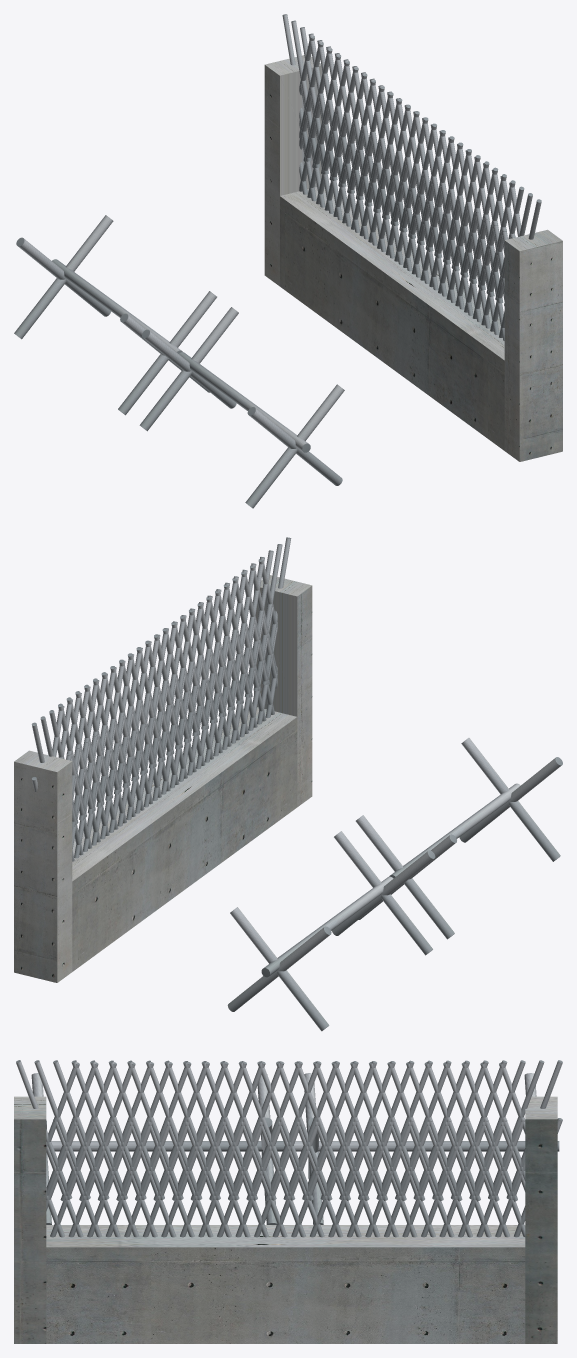
The model's file is wallTrench.fbx.
3 renders of one model, top to bottom at view 1: azimuth 30°, elevation 25°; view 2: azimuth 150°, elevation 25°; view 3: azimuth 270°, elevation 25°, orthographic. The views are drawn at different scales.
Visible parts, largest first — view 1: Cube.020; view 2: Cube.020; view 3: Cube.020.
Boxes of the visible parts, <box> form: Cube.020: <box>14,14,562,508</box>; Cube.020: <box>14,537,562,1031</box>; Cube.020: <box>14,1060,562,1343</box>.
Size of the model in its own units: 702 by 564 by 1032.
2 materials, 2 textured.
